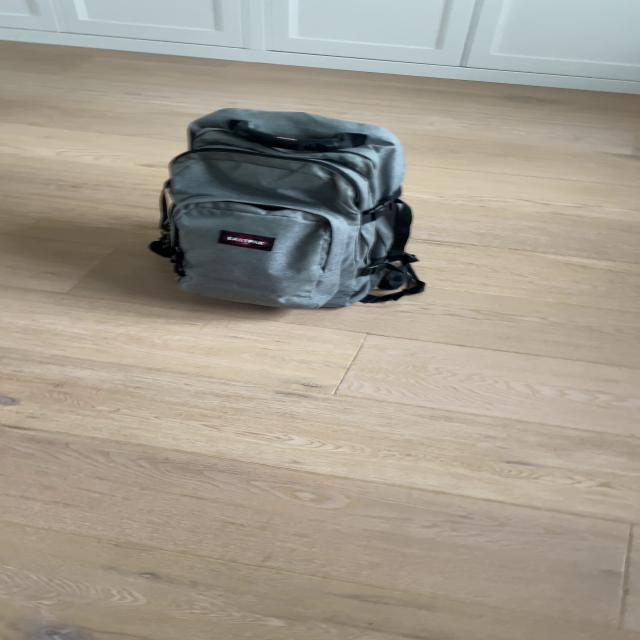backpack: (141, 97, 426, 318)
